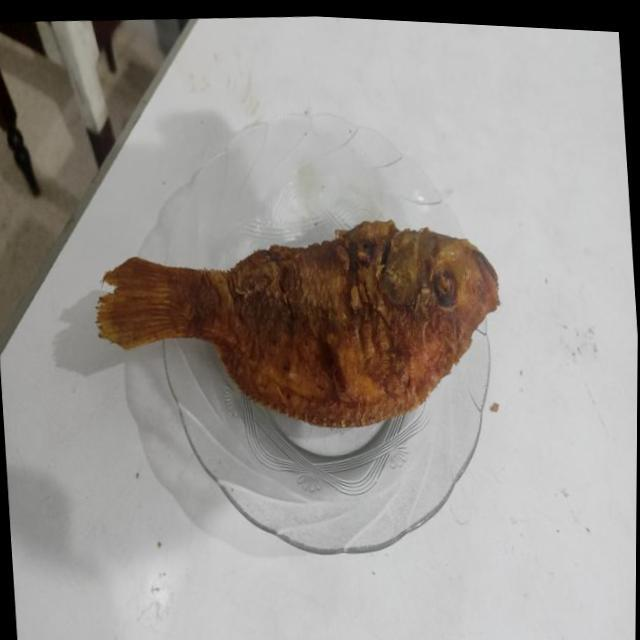ikan_mujair: (96, 220, 498, 427)
